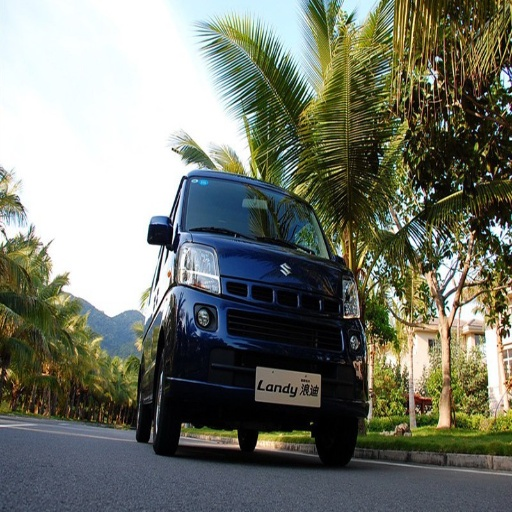front_bumper: (163, 260, 369, 432)
